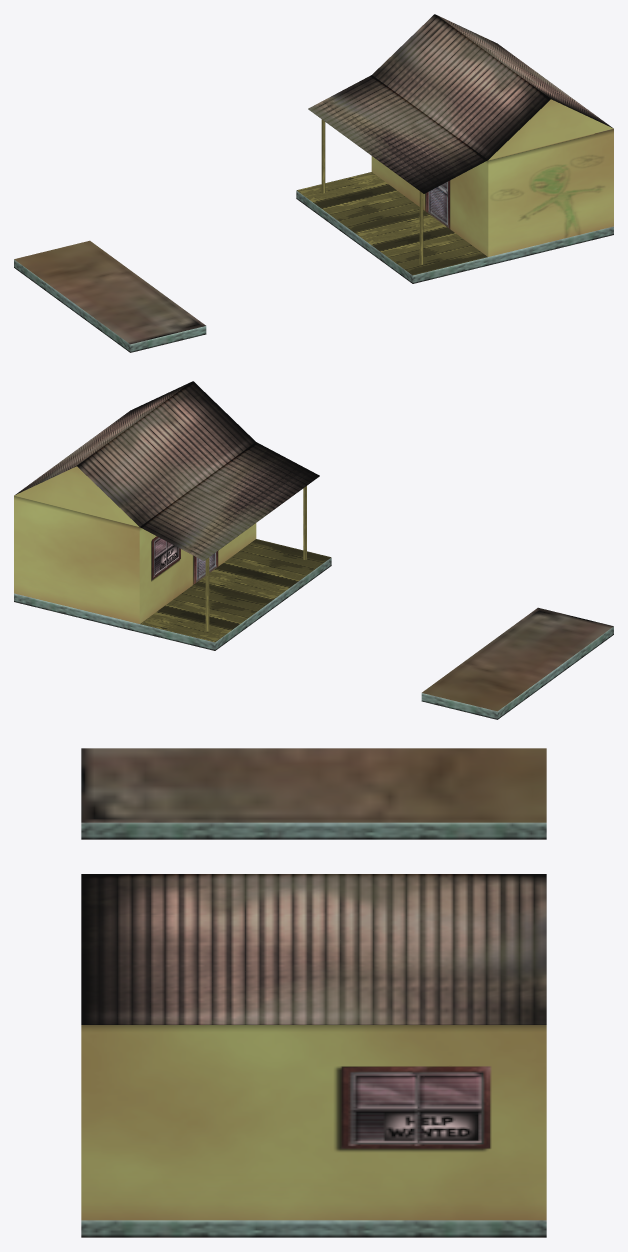
The picture shows the model from 3 angles, top to bottom: view 1: azimuth 30°, elevation 25°; view 2: azimuth 150°, elevation 25°; view 3: azimuth 270°, elevation 25°; orthographic projection. The views are drawn at different scales.
Visible parts, largest first — view 1: Cylinder02; view 2: Cylinder02; view 3: Cylinder02.
Boxes of the visible parts, x1,y1,x2,y2 form: Cylinder02: (14, 14, 613, 352); Cylinder02: (14, 381, 613, 719); Cylinder02: (81, 748, 546, 1237).
Size of the model in its own units: 2161 by 645 by 901.
4 materials, 4 textured.
